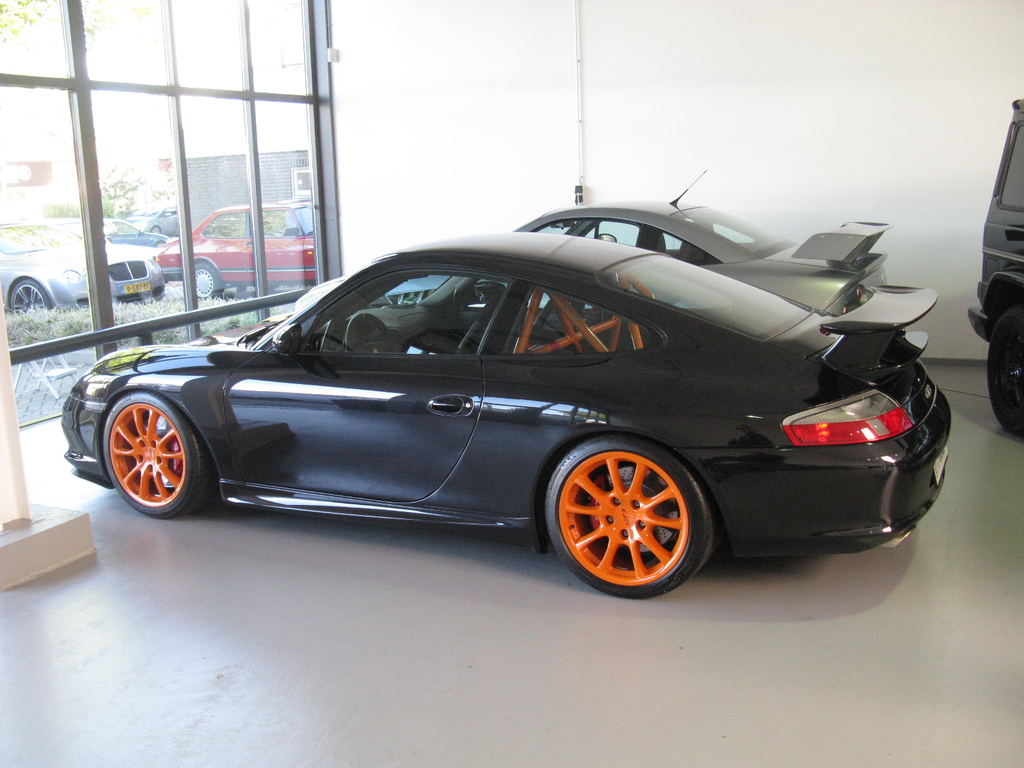Car: (57, 231, 954, 600), (510, 167, 892, 318), (970, 94, 1023, 435), (147, 200, 318, 303), (0, 224, 160, 311)
